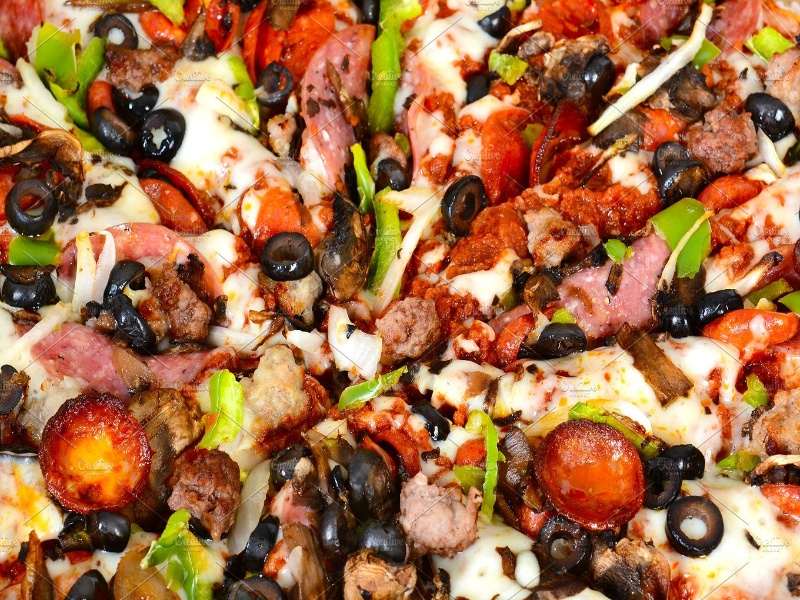olive noir: (525, 522, 604, 583), (660, 499, 738, 560), (2, 177, 64, 236), (257, 231, 323, 282), (314, 505, 360, 572), (137, 108, 188, 158), (2, 270, 61, 313), (744, 89, 795, 137), (447, 174, 488, 231), (368, 517, 415, 561), (660, 297, 700, 348), (87, 511, 135, 553), (109, 253, 147, 305), (585, 49, 621, 98), (378, 156, 414, 189)
pepperonis: (527, 417, 650, 530), (39, 394, 153, 508)
